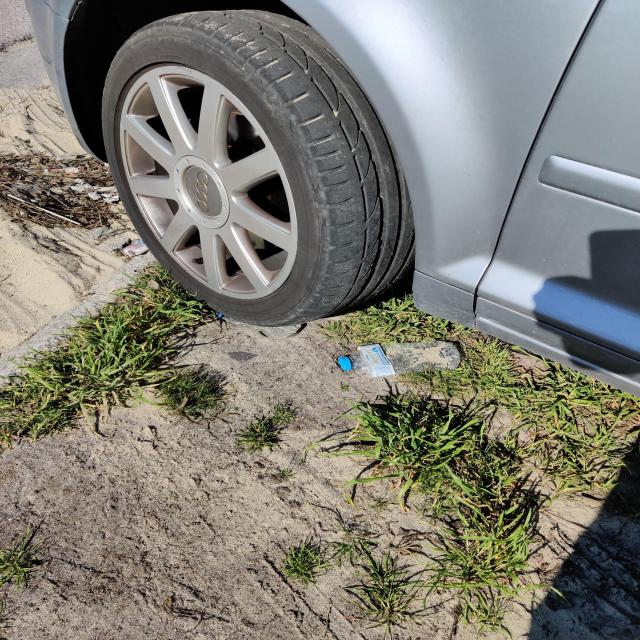litter: (330, 339, 462, 379)
